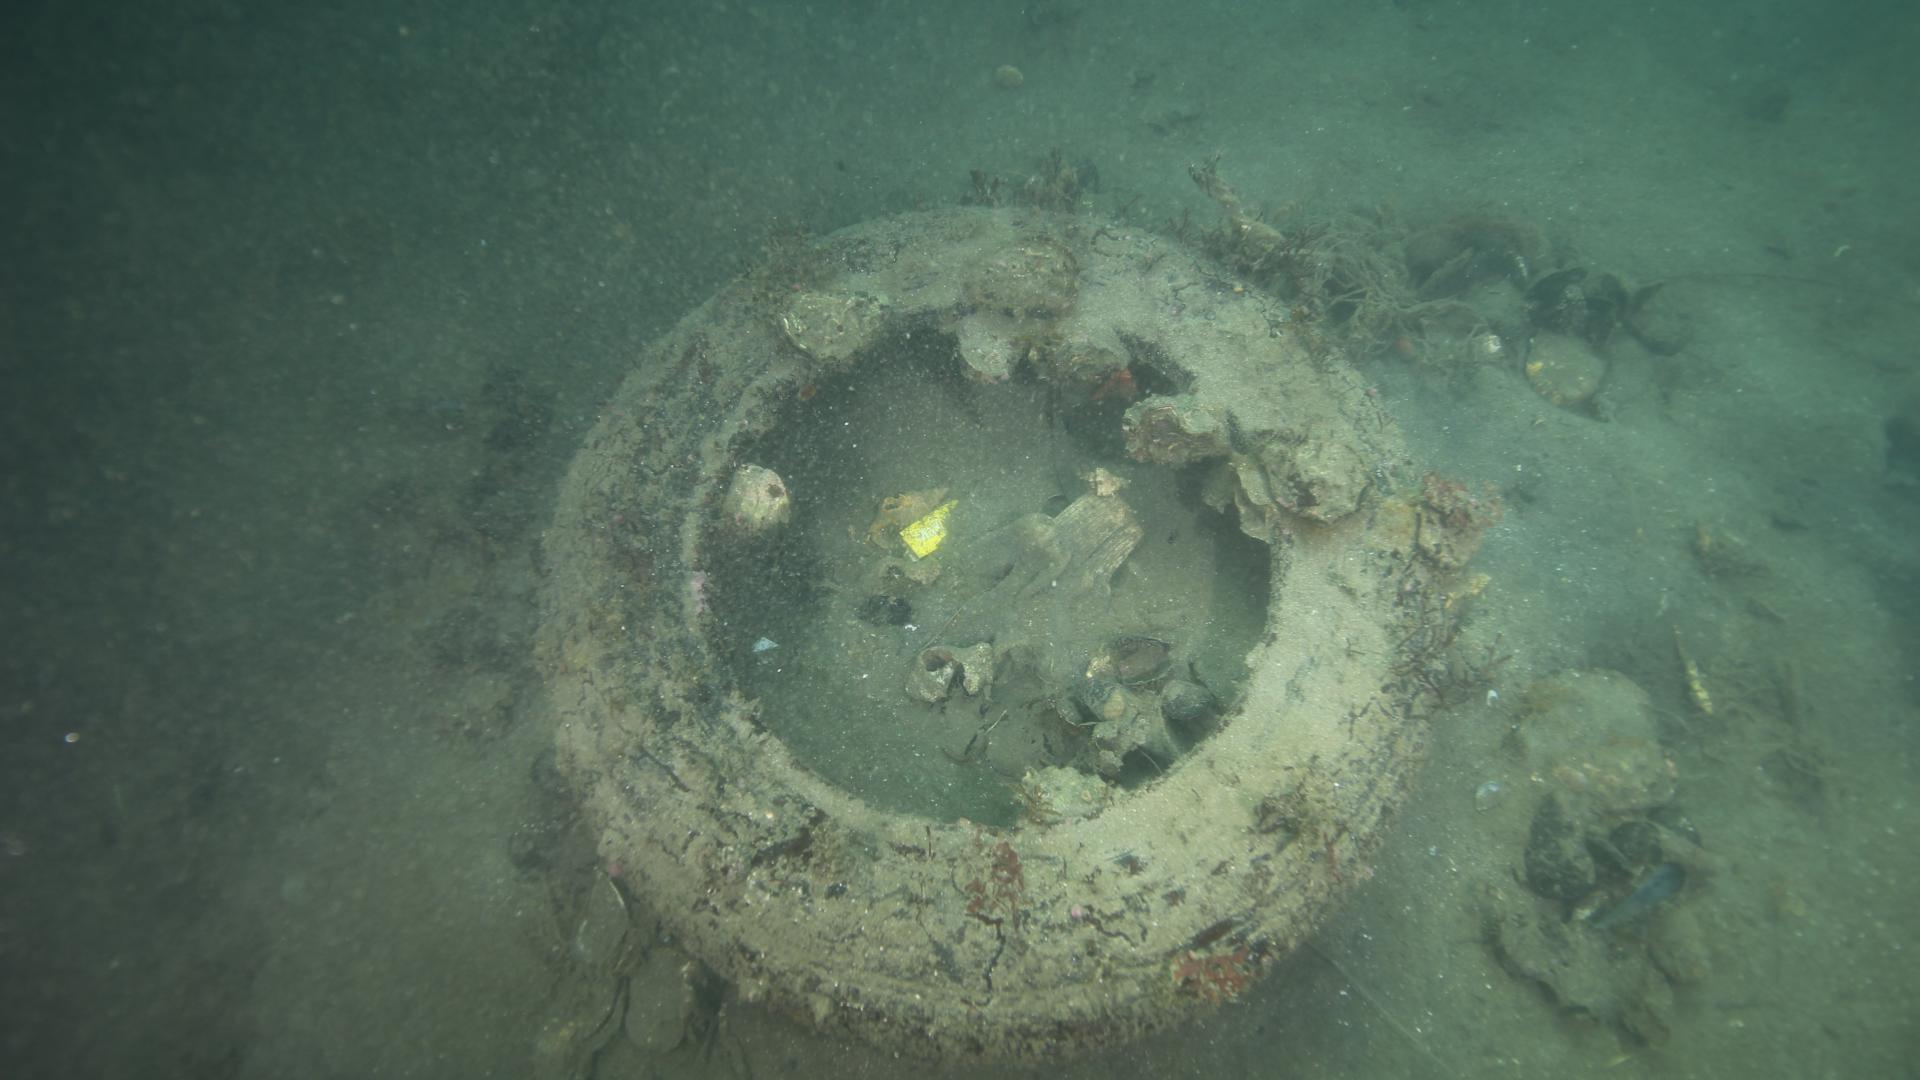tire: (516, 204, 1457, 1064)
